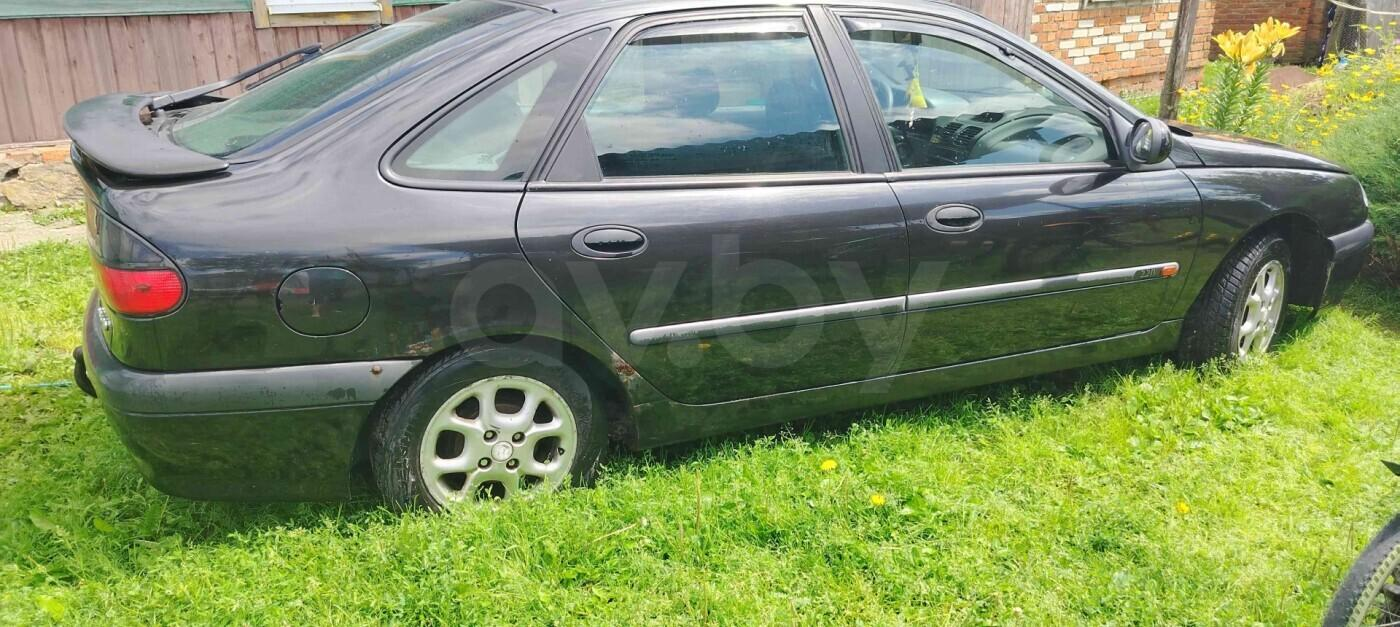Lahuna_1993-1999: (49, 0, 1370, 519)
